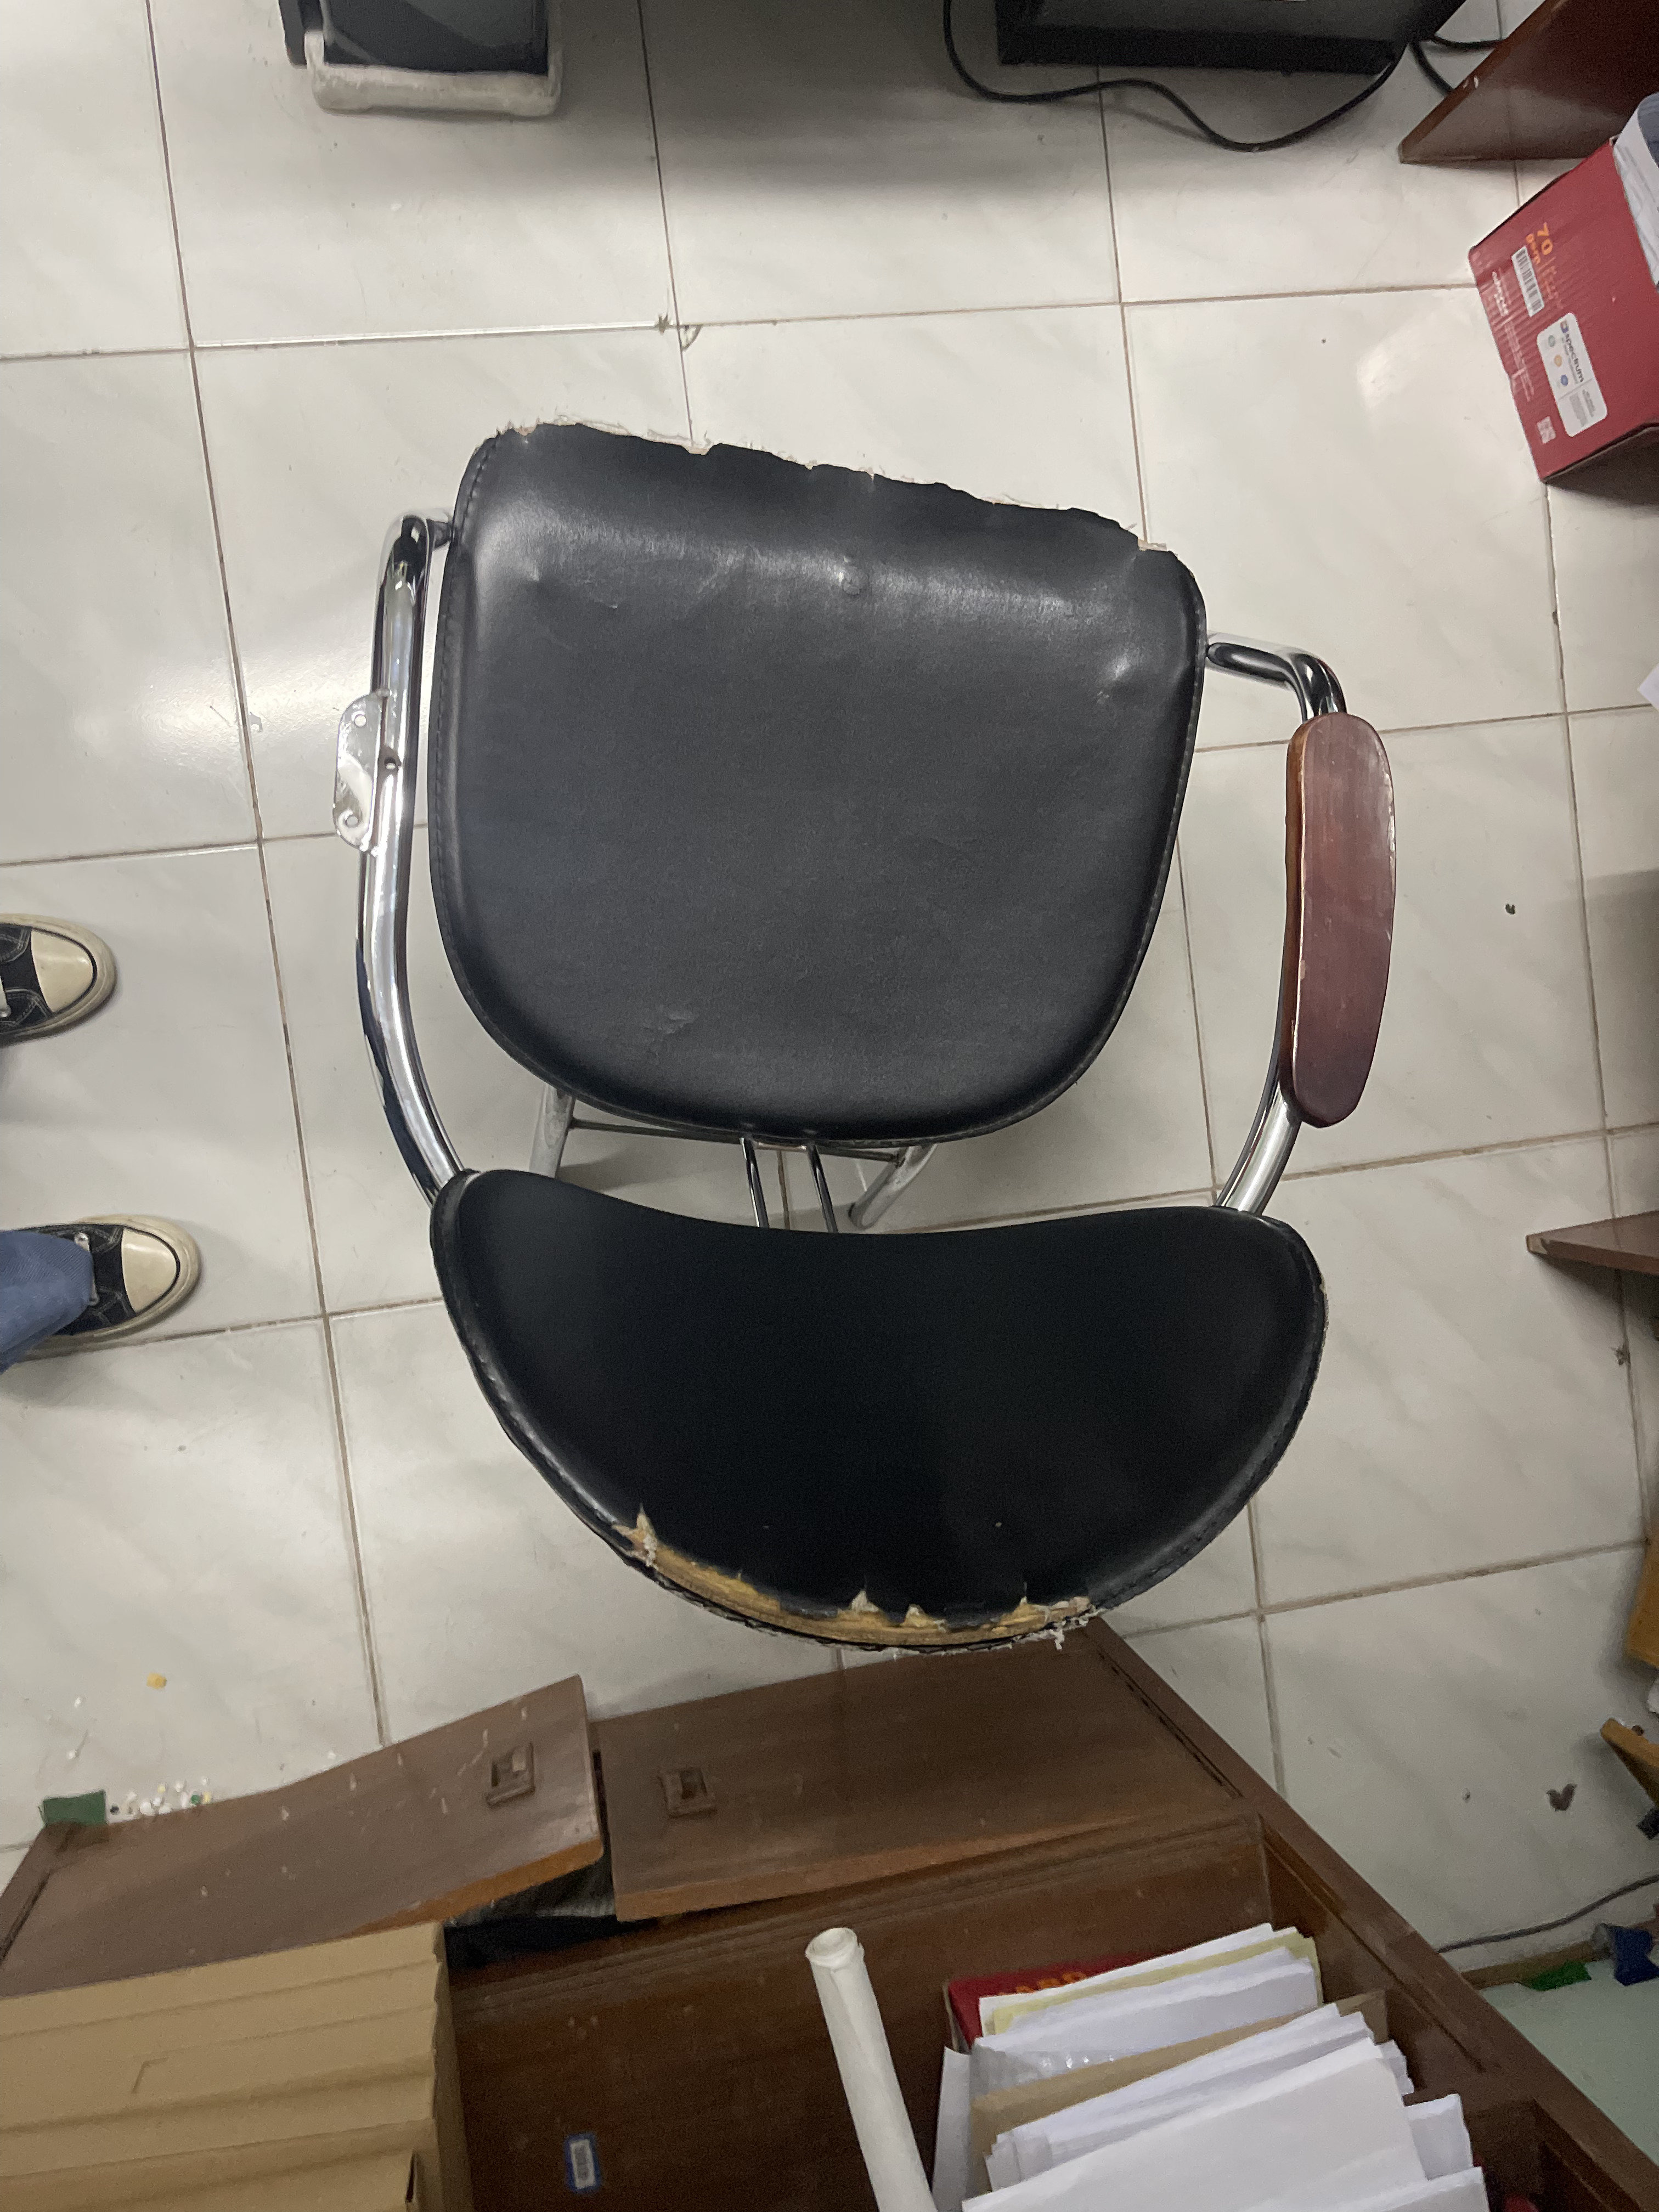chair1: (328, 415, 1401, 1683)
